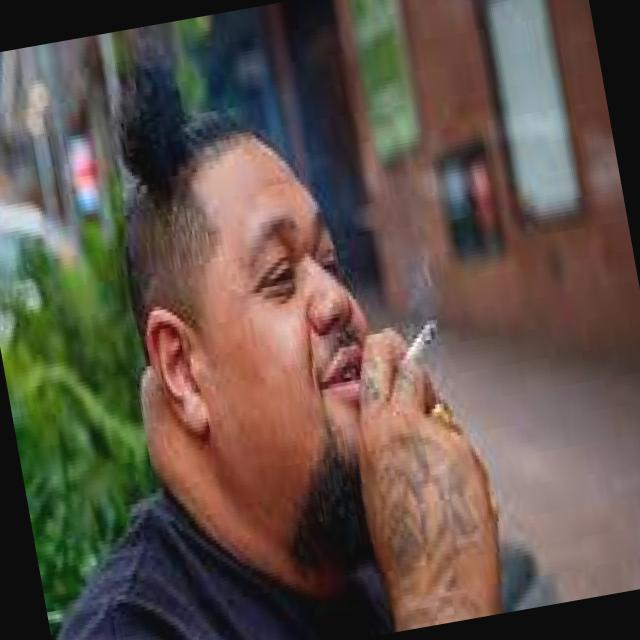smoke: (331, 291, 460, 434)
